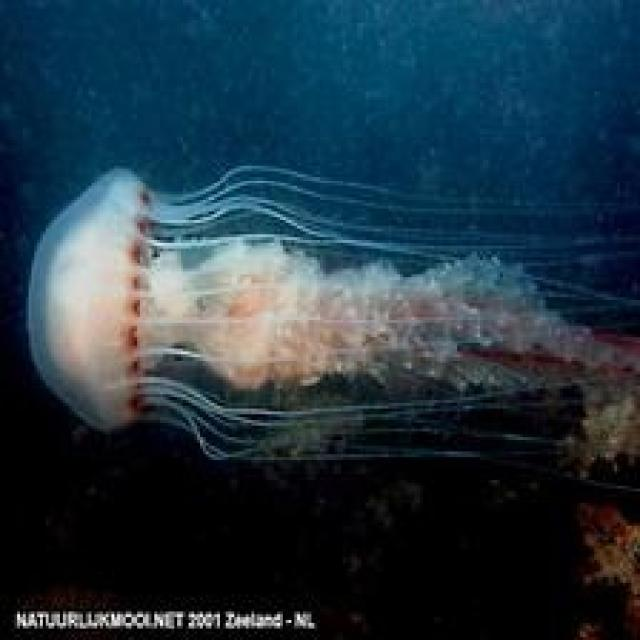Box-jellyfish: (23, 160, 637, 483)
